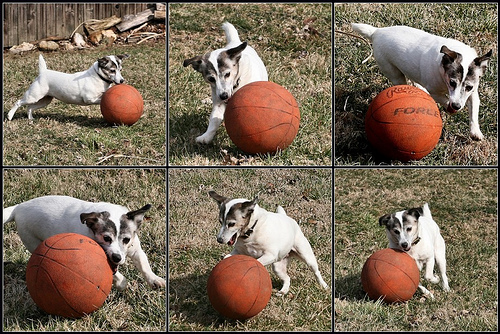basketball: (27, 232, 114, 320), (365, 84, 442, 160), (224, 81, 300, 154), (208, 253, 273, 321), (361, 248, 419, 303), (100, 84, 144, 126)
